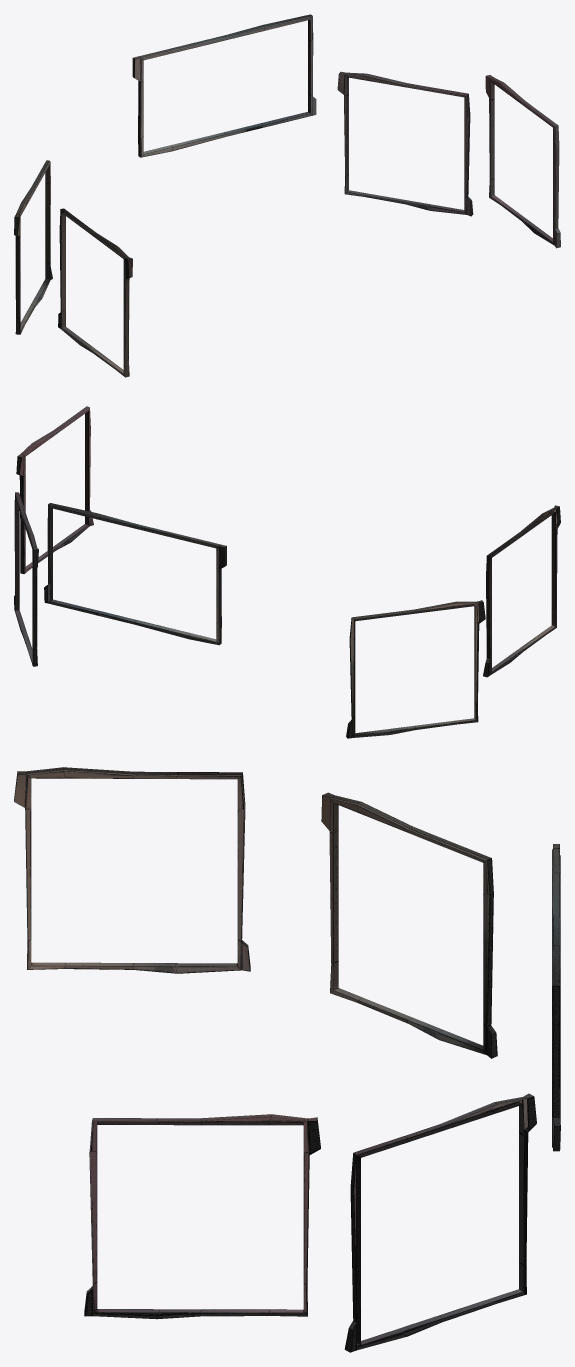
File: frames.glb
The picture shows the model from 3 angles, top to bottom: view 1: azimuth 30°, elevation 25°; view 2: azimuth 150°, elevation 25°; view 3: azimuth 270°, elevation 25°; orthographic projection. The views are drawn at different scales.
Visible parts, largest first — view 1: PictureFrames; view 2: PictureFrames; view 3: PictureFrames.
Part boxes in pixels (left/top/right/bottom): PictureFrames: left=14, top=14, right=560, bottom=377; PictureFrames: left=14, top=406, right=560, bottom=738; PictureFrames: left=14, top=767, right=560, bottom=1352.
Bounding box in the file's own units: 9.73 × 3.6 × 5.96.
1 material, 1 textured.
